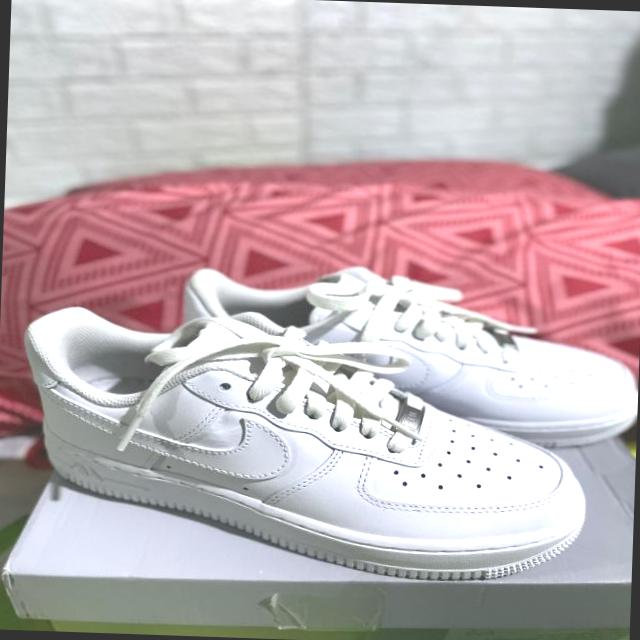nike_original_airforce: (11, 299, 590, 586), (140, 259, 636, 450)
